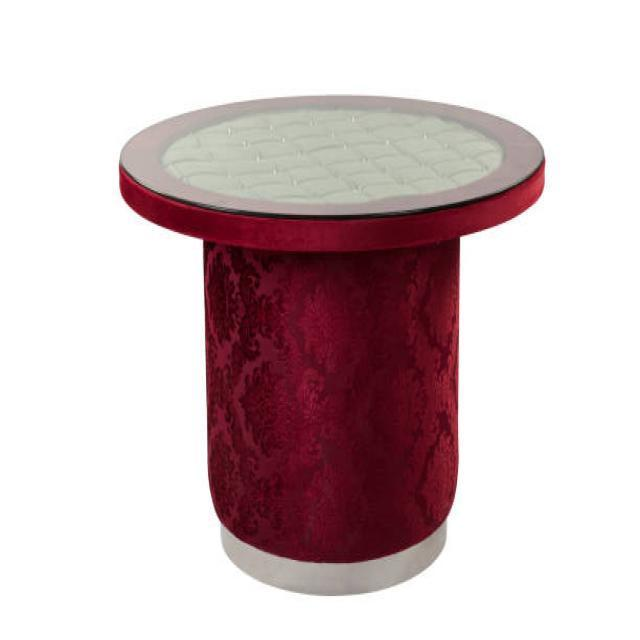table: (118, 91, 546, 596)
